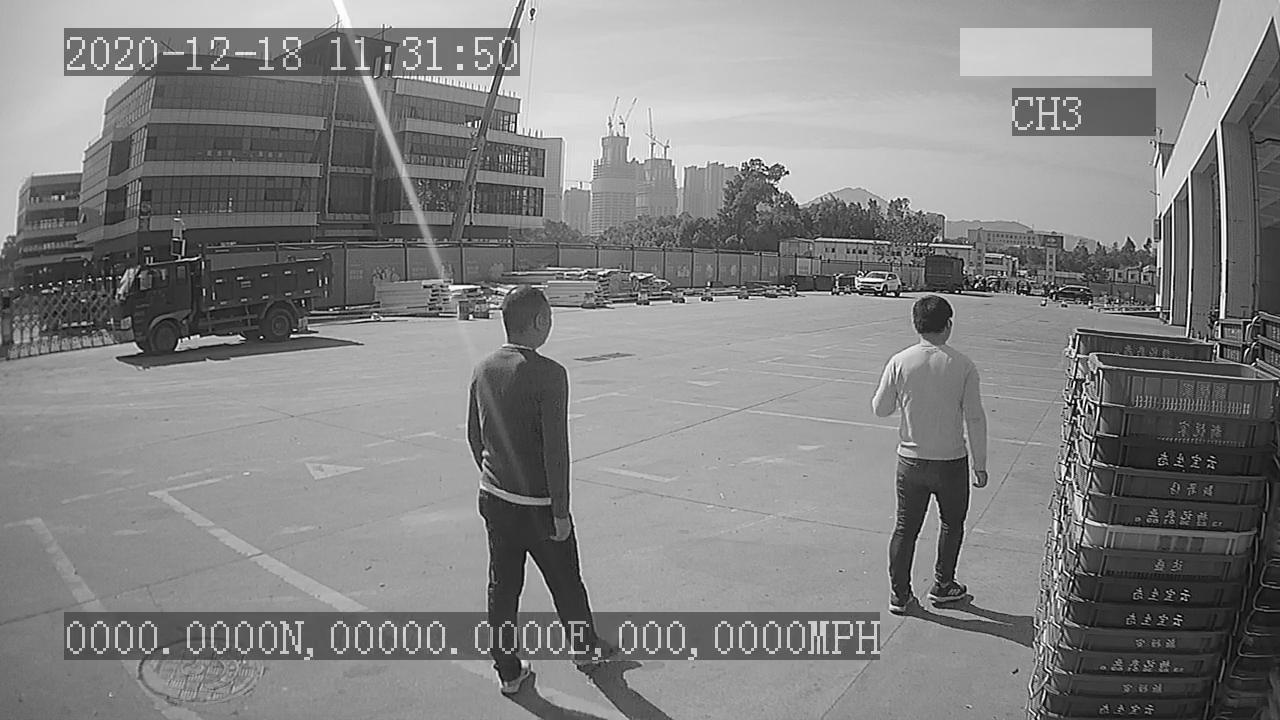person: (869, 295, 991, 615)
